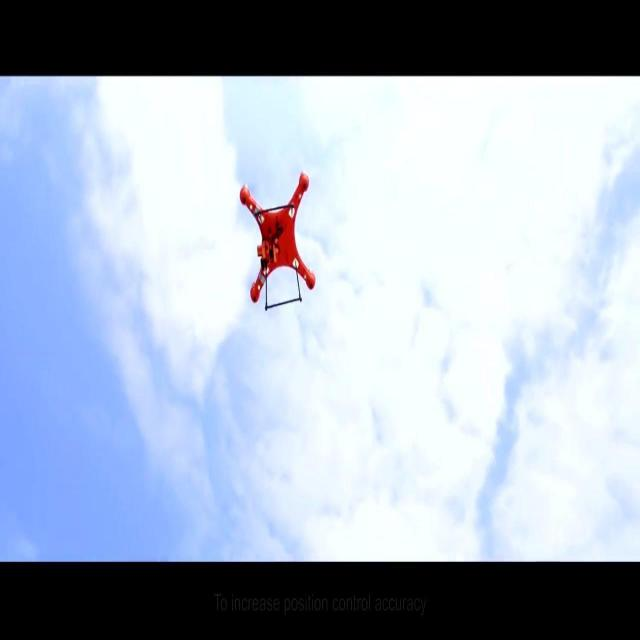UAV: (240, 172, 316, 311)
